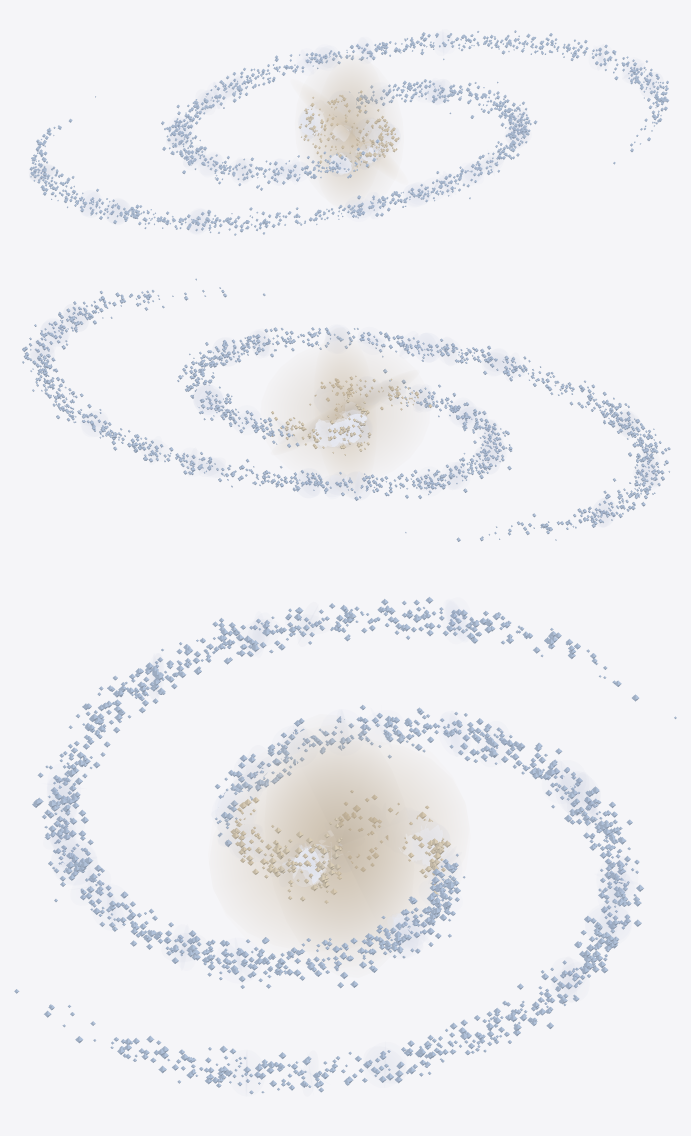
3 renders of one model, top to bottom at view 1: azimuth 30°, elevation 25°; view 2: azimuth 150°, elevation 25°; view 3: azimuth 270°, elevation 25°, orthographic. The views are drawn at different scales.
Bounding box in the file's own units: 7.24 × 1.78 × 4.11.
